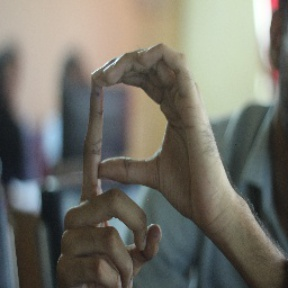D: (80, 43, 204, 202)
